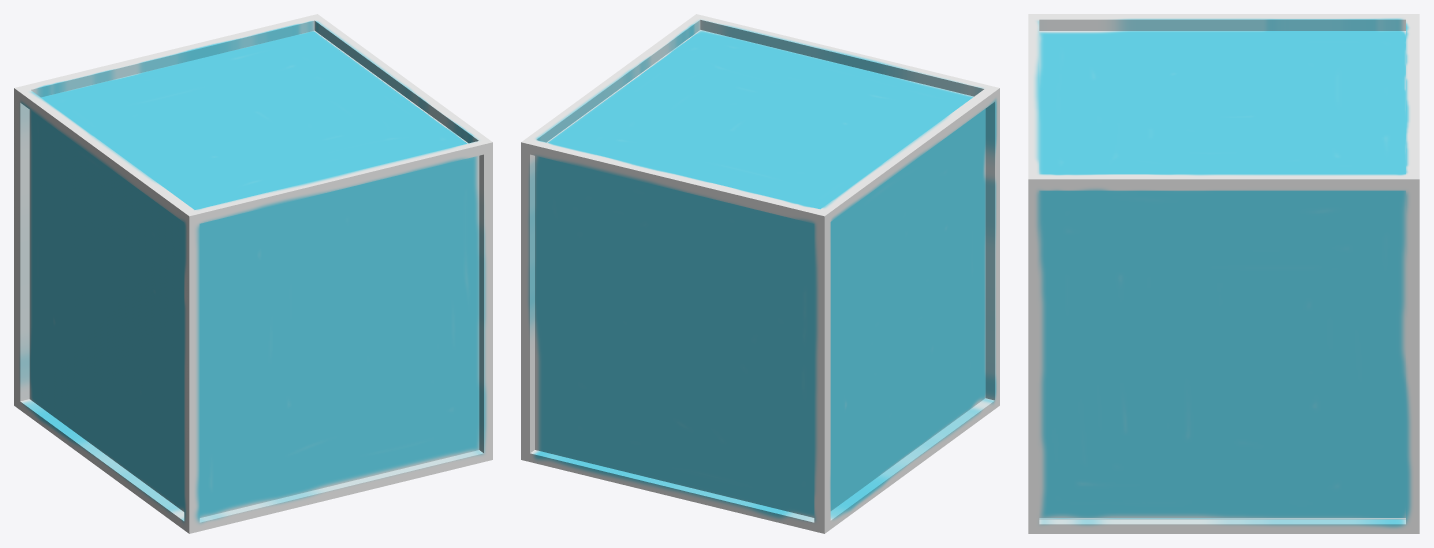
The model's file is core.obj.
3 renders of one model, left to right at view 1: azimuth 30°, elevation 25°; view 2: azimuth 150°, elevation 25°; view 3: azimuth 270°, elevation 25°, orthographic. The views are drawn at different scales.
Visible parts, largest first — view 1: Cube; view 2: Cube; view 3: Cube.
Boxes of the visible parts, x1,y1,x2,y2 form: Cube: [14, 14, 492, 533]; Cube: [521, 14, 999, 533]; Cube: [1028, 14, 1419, 533].
Bounding box in the file's own units: 2 × 2 × 2.
1 material, 1 textured.
